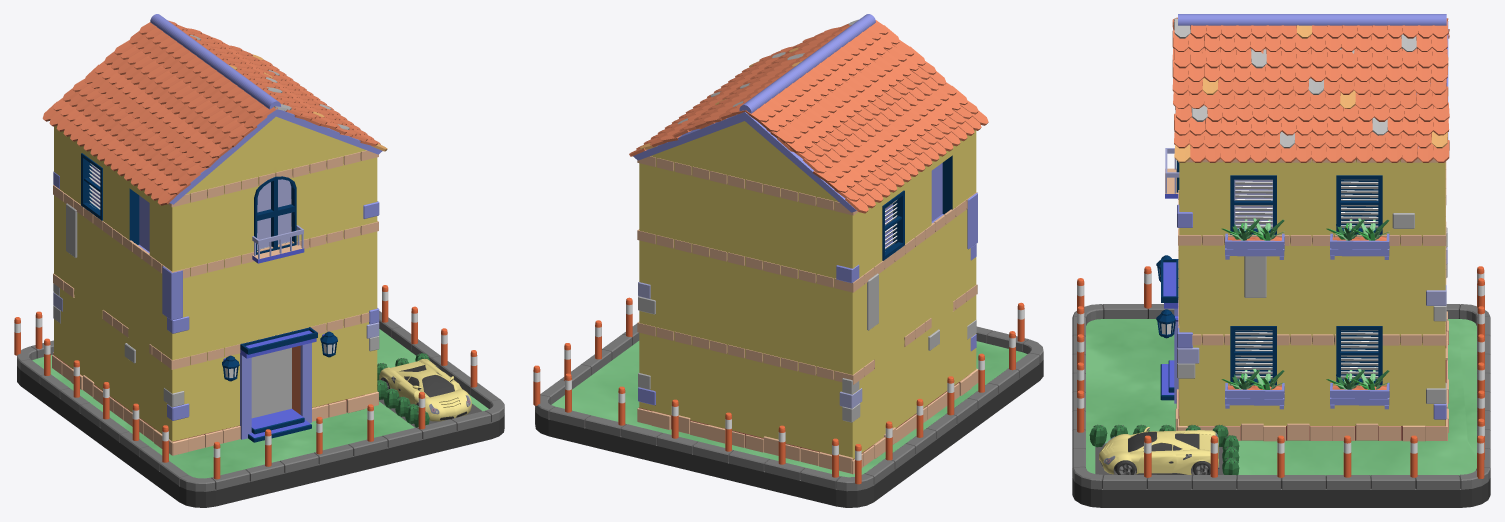
File: lv2_house_5.fbx
3 views of the same model, side by side, from view 1: azimuth 30°, elevation 25°; view 2: azimuth 150°, elevation 25°; view 3: azimuth 270°, elevation 25° (orthographic). The views are drawn at different scales.
Visible parts, largest first — view 1: lv2_house_5, basehouse_lv2_5, lv2_car_5, lv2_house_cactus_5; view 2: lv2_house_5, basehouse_lv2_5; view 3: lv2_house_5, basehouse_lv2_5, lv2_car_5, lv2_house_cactus_5.
Part boxes in pixels (x1,y1,x2,y2): lv2_house_5: [42, 14, 387, 455]; basehouse_lv2_5: [14, 285, 504, 507]; lv2_car_5: [379, 359, 471, 421]; lv2_house_cactus_5: [377, 353, 429, 427]; lv2_house_5: [629, 14, 988, 474]; basehouse_lv2_5: [533, 297, 1043, 507]; lv2_house_5: [1156, 14, 1449, 441]; basehouse_lv2_5: [1072, 266, 1490, 507]; lv2_car_5: [1099, 427, 1219, 475]; lv2_house_cactus_5: [1089, 424, 1239, 475].
Size of the model in its own units: 2513 by 2571 by 2513.
